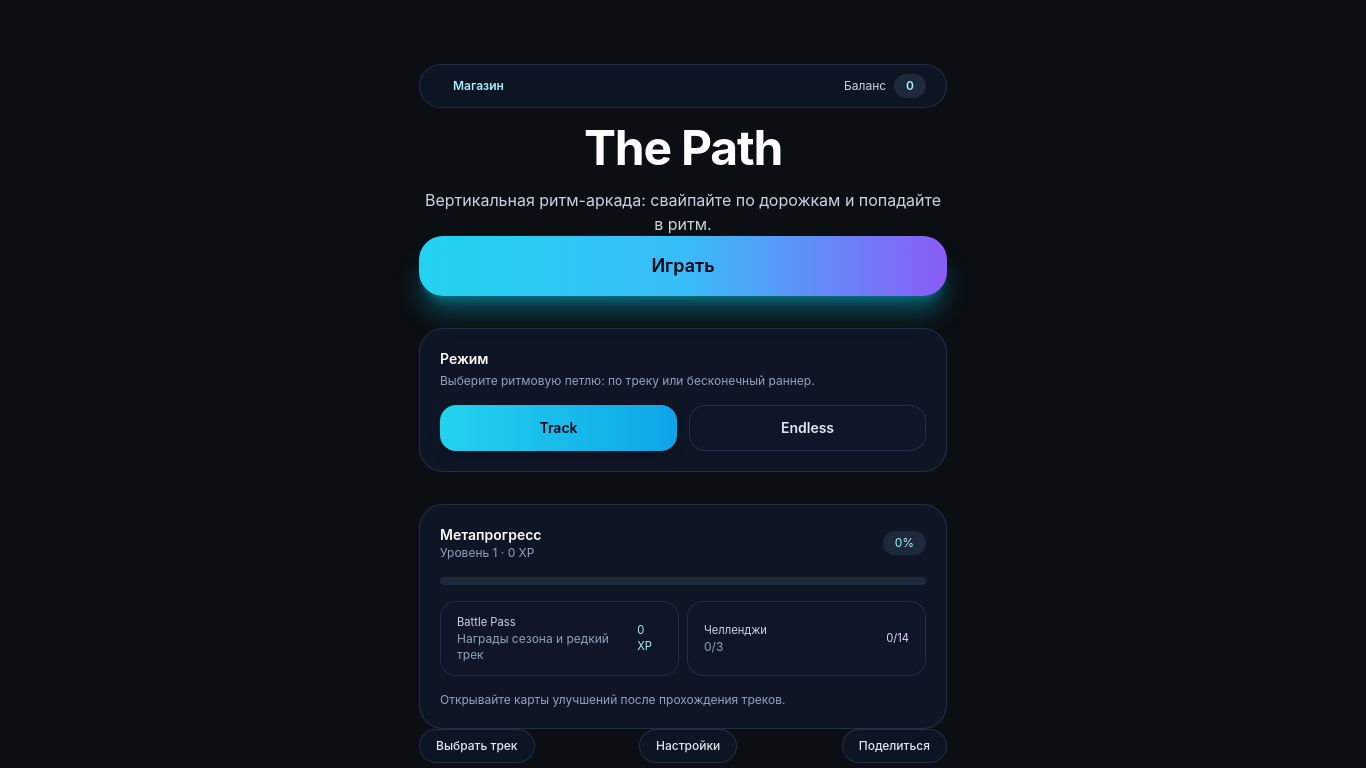
Test case: App › opens settings and returns home
Click the button "Настройки": (688, 746) [639,729,737,763]
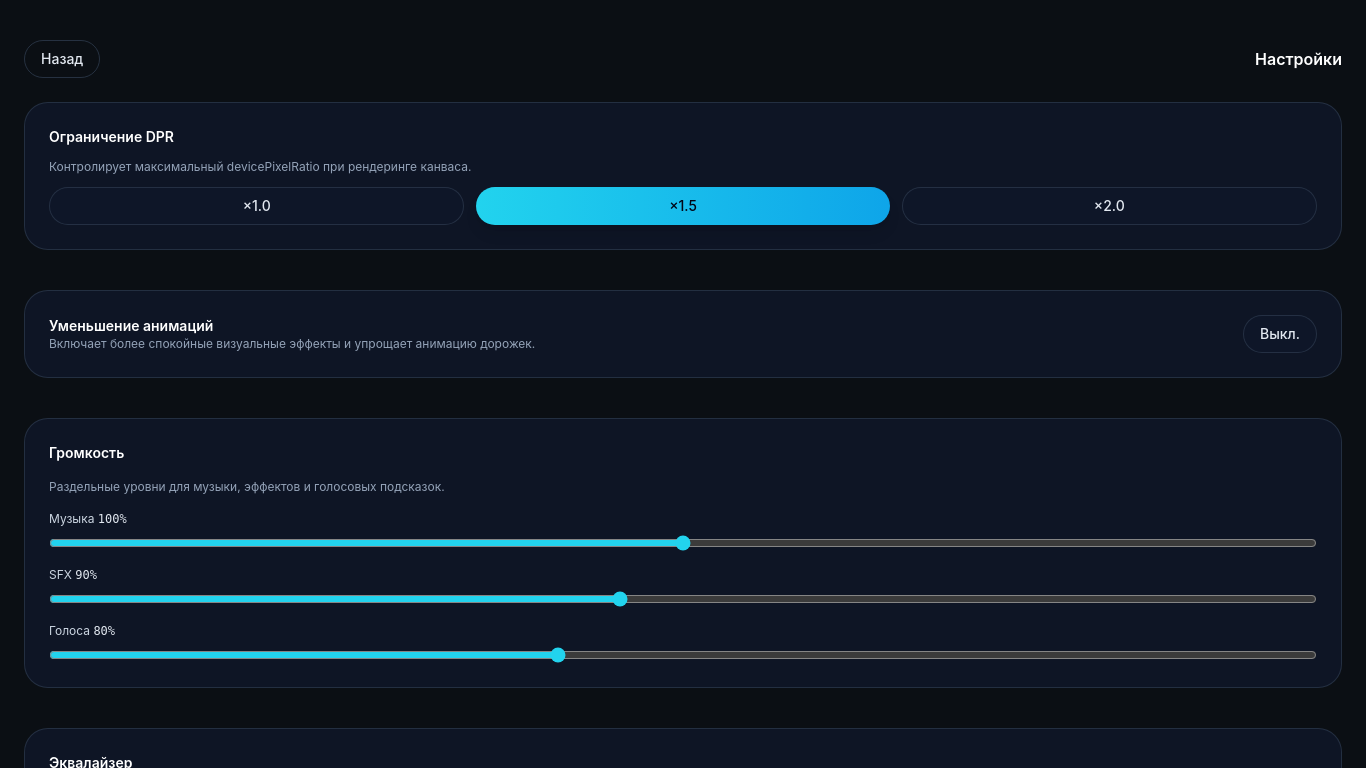
Expected: the heading "Ограничение DPR" is shown, [49,128,174,145]
Click the button "Назад": (62, 59) [24,40,100,78]
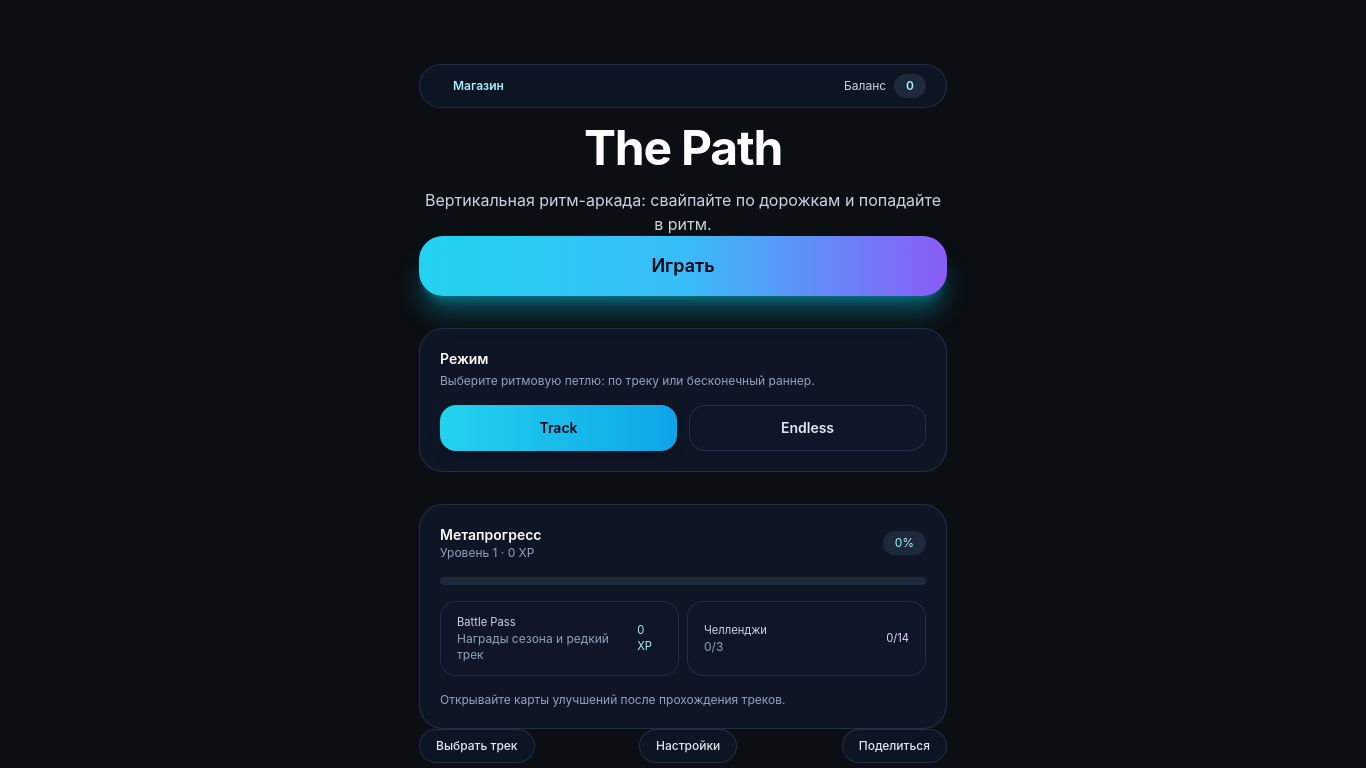
Expected: the button "Играть" is shown, [419,236,947,296]
